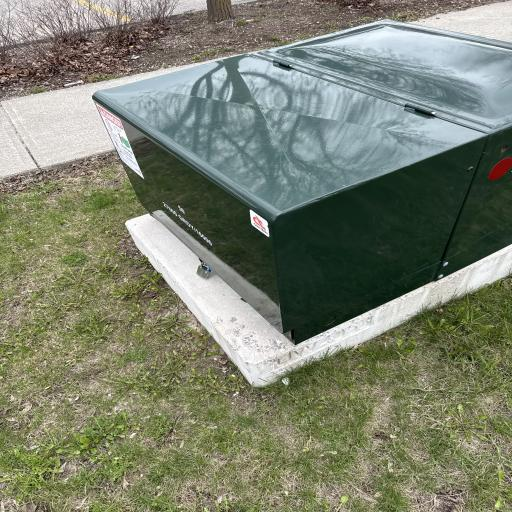Electrical Box: (92, 20, 510, 346)
